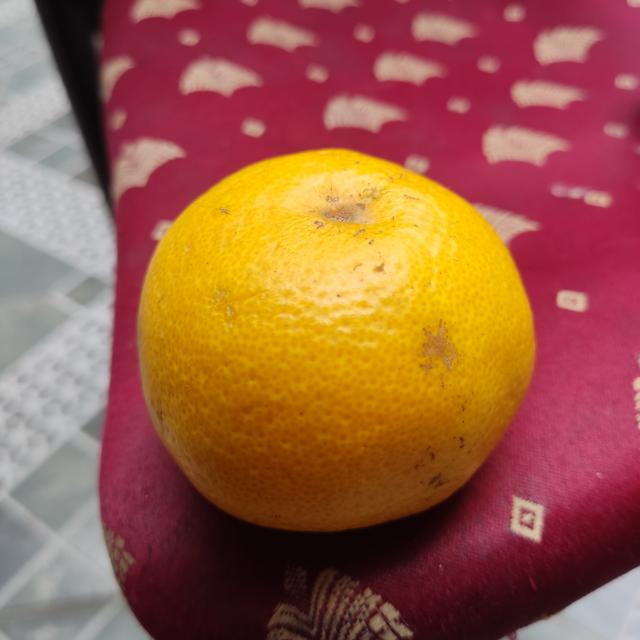orange: (132, 150, 540, 532)
